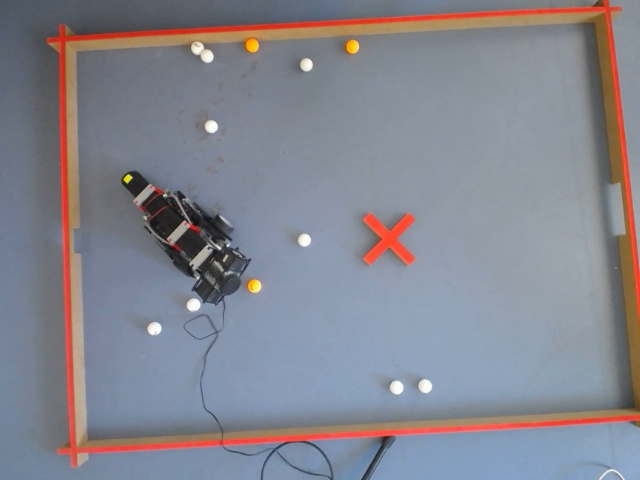orange: (344, 38, 362, 56), (244, 36, 260, 54), (248, 278, 262, 293)
robot: (121, 168, 247, 306)
white: (298, 56, 315, 74), (202, 117, 220, 134), (200, 48, 215, 66), (417, 378, 433, 394), (146, 321, 163, 336), (121, 171, 139, 185), (186, 296, 201, 312), (297, 233, 312, 248), (389, 379, 403, 395), (190, 40, 203, 56)
